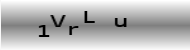1: (38, 23, 49, 38)
L: (82, 10, 96, 24)
V: (49, 12, 66, 28)
r: (67, 25, 79, 36)
u: (114, 17, 128, 28)
